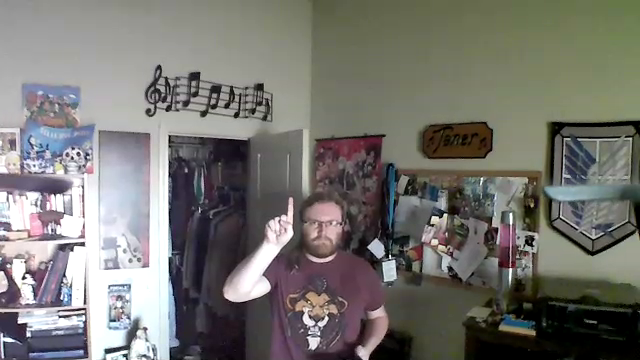up: (261, 194, 297, 247)
